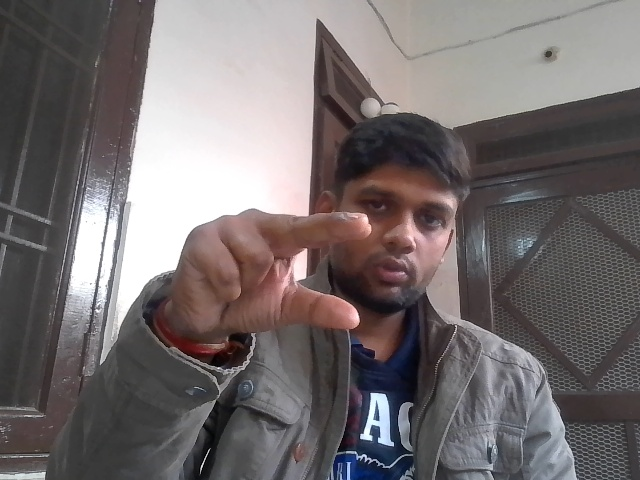No: (156, 197, 381, 356)
